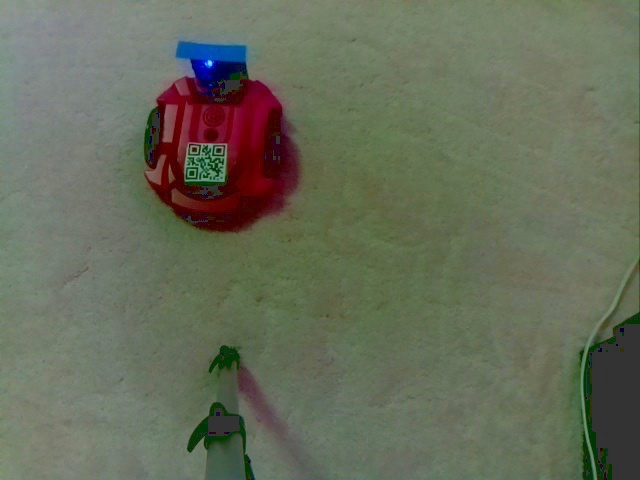board: (171, 39, 257, 89)
chassis: (133, 36, 307, 234)
